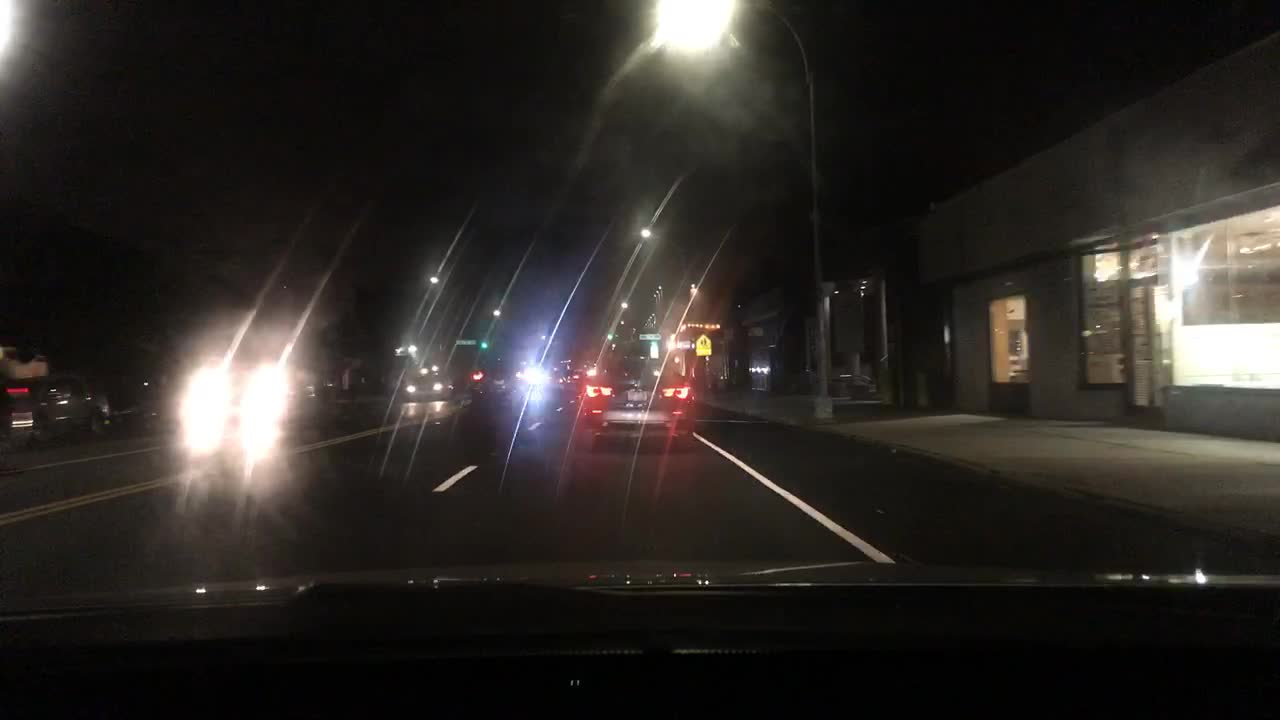car: (0, 345, 110, 447), (577, 352, 694, 446), (191, 358, 321, 424), (469, 357, 544, 404), (113, 390, 177, 431), (404, 366, 454, 400), (563, 367, 581, 384)
traffic sign: (691, 334, 711, 355), (636, 332, 662, 340)
